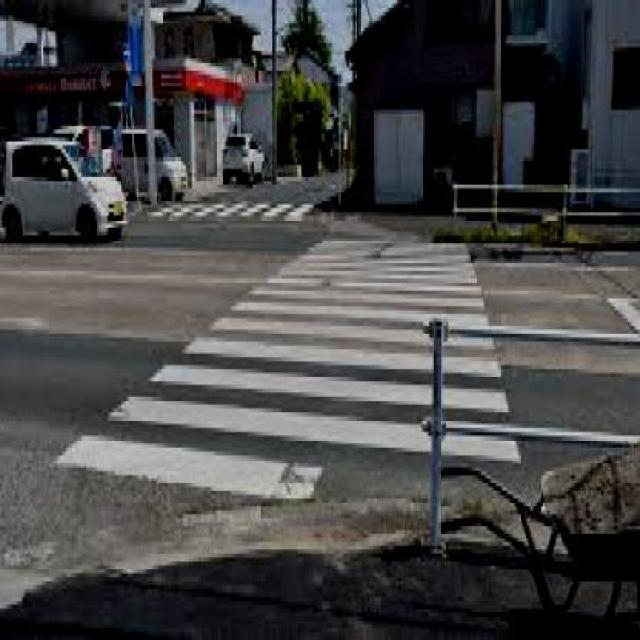crosswalk: (44, 235, 541, 538), (141, 203, 322, 219)
